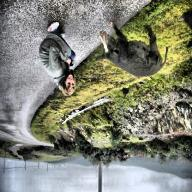boar: (96, 21, 168, 78), (180, 9, 192, 49)
